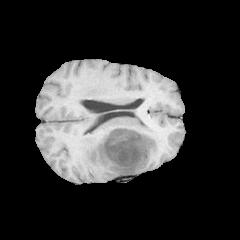glioma: (78, 115, 164, 179)
